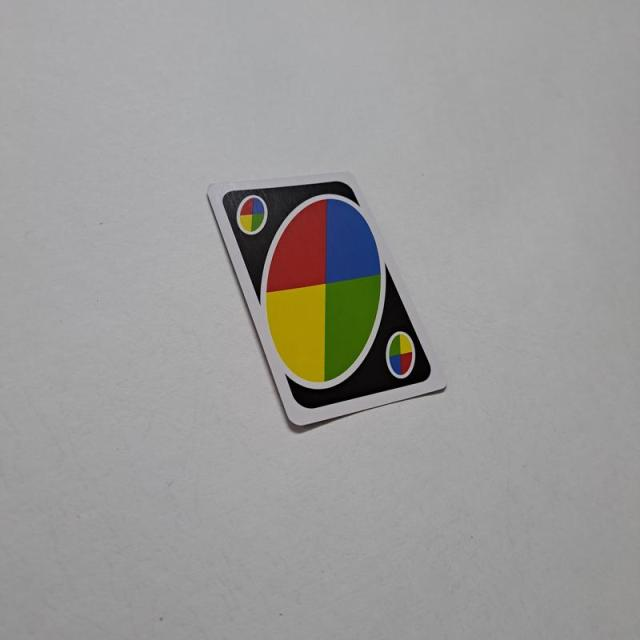Change_Color: (219, 175, 435, 412)
